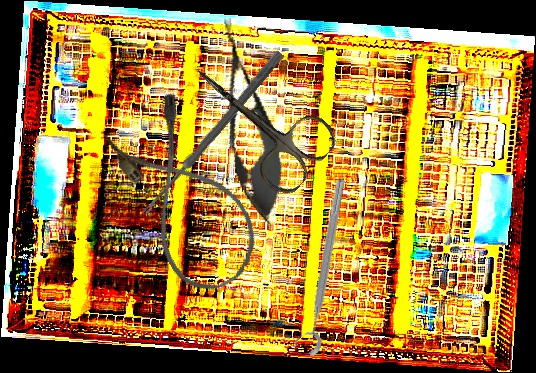Cannula: (97, 87, 274, 306)
Fixation Ring: (290, 175, 351, 359)
Iris Scissors: (169, 35, 343, 202)
Micro Scissor: (201, 11, 295, 229)
Surgical Spoon: (140, 49, 285, 218)
